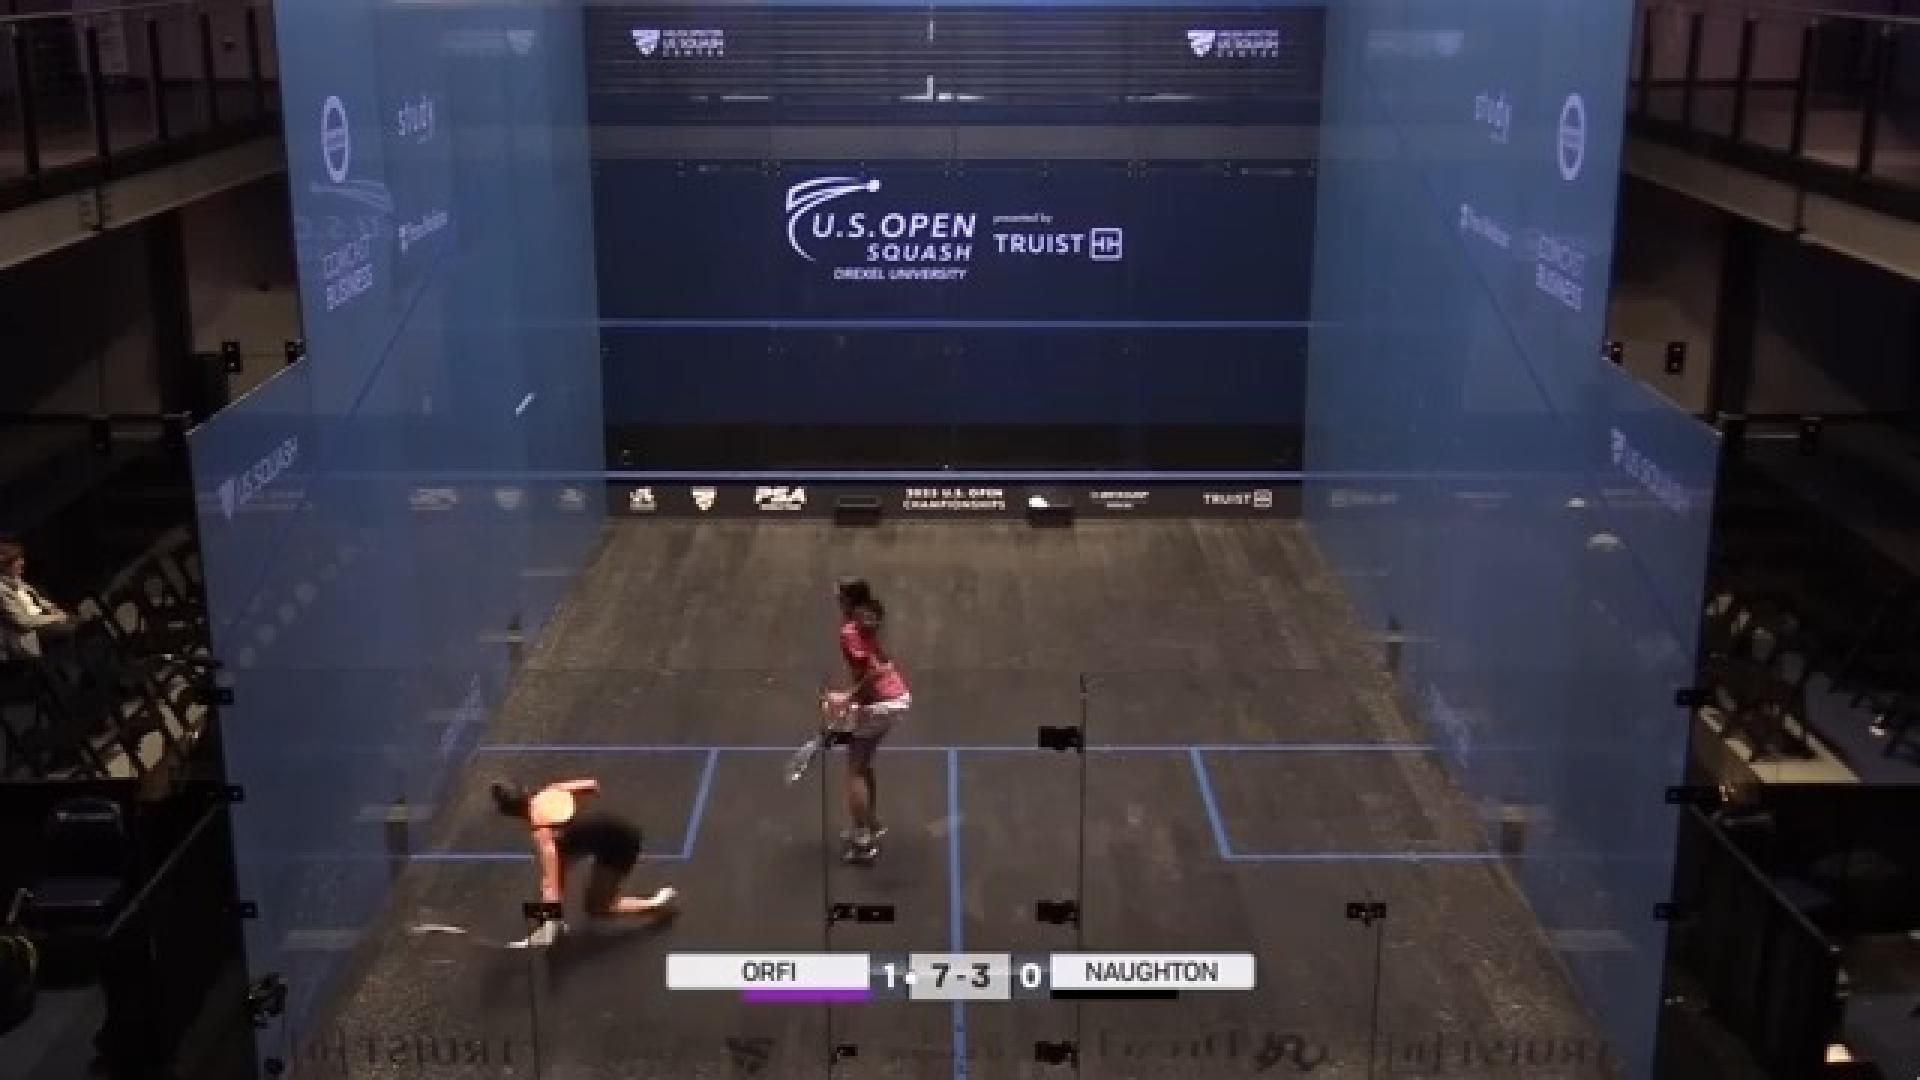Squash-Ball: (496, 376, 554, 440)
